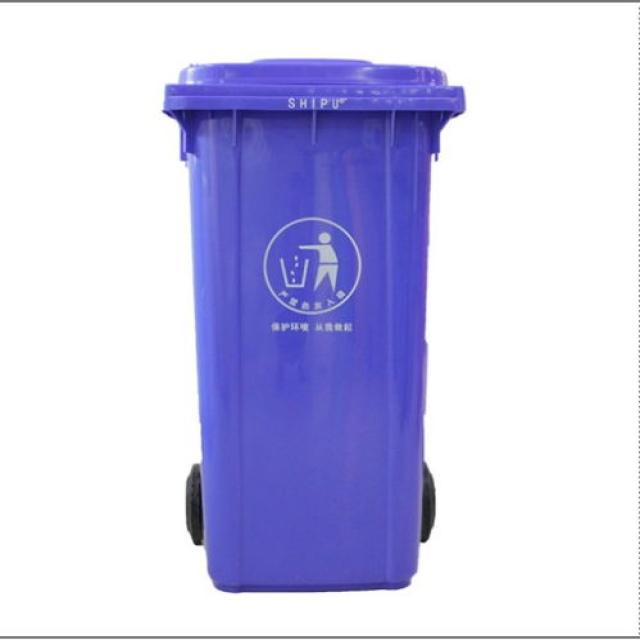garbage_bin: (163, 57, 463, 592)
